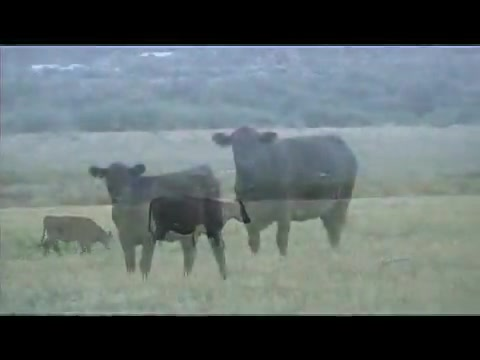cow: (212, 121, 361, 255), (88, 162, 227, 279), (145, 195, 251, 246), (41, 216, 114, 258)
